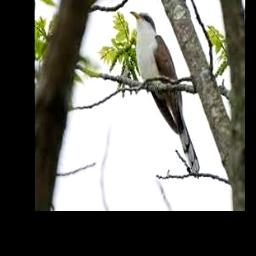Cuckoo: (128, 11, 199, 173)
